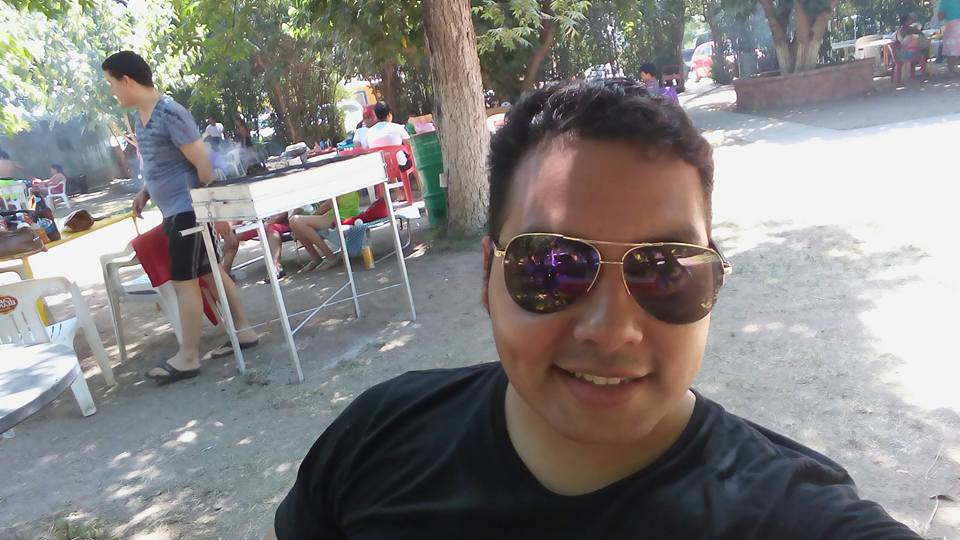Yoshi: (452, 54, 786, 468)
